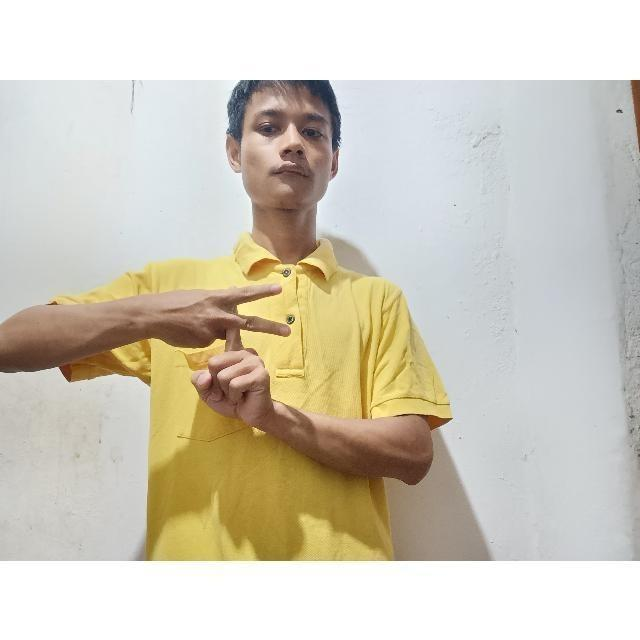F: (158, 259, 306, 436)
